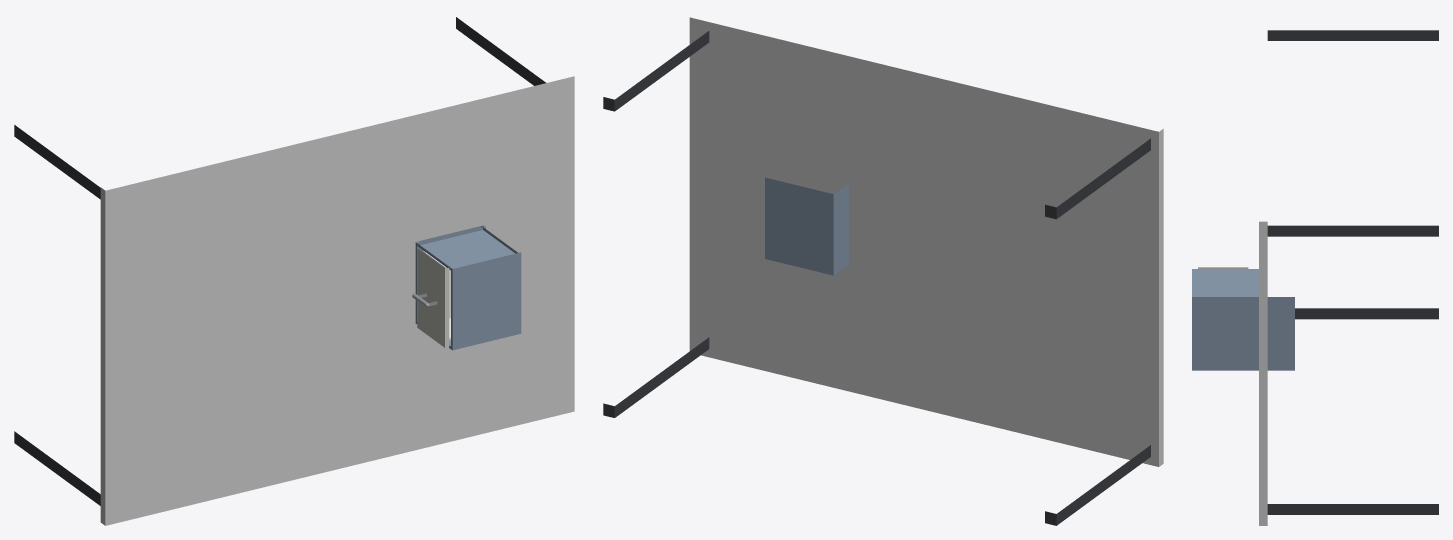
Rendered from t2_27fab6fcc3.glb.
The picture shows the model from 3 angles, left to right: view 1: azimuth 30°, elevation 25°; view 2: azimuth 150°, elevation 25°; view 3: azimuth 270°, elevation 25°; orthographic projection. The views are drawn at different scales.
Visible parts, largest first — view 1: s0, s1, s2; view 2: s0, s1; view 3: s0, s1.
Boxes of the visible parts, x1=… form: s0: x1=14, y1=17, x2=574, y2=525; s1: x1=415, y1=225, x2=521, y2=350; s2: x1=412, y1=248, x2=450, y2=347; s0: x1=603, y1=17, x2=1163, y2=525; s1: x1=765, y1=177, x2=848, y2=275; s0: x1=1259, y1=30, x2=1438, y2=525; s1: x1=1192, y1=269, x2=1294, y2=370.
Bounding box in the file's own units: 2.05 × 1.4 × 1.03.
